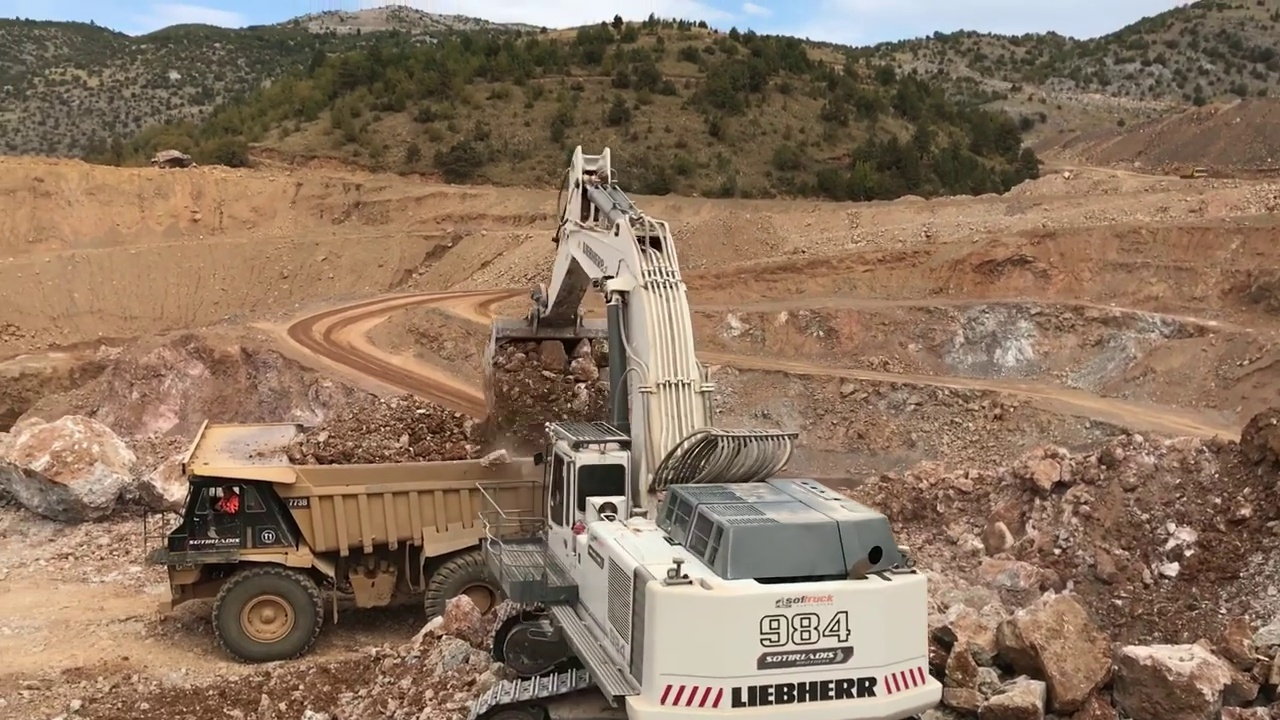excavator: (479, 143, 950, 720)
person: (213, 483, 248, 519)
truck: (159, 410, 632, 663)
